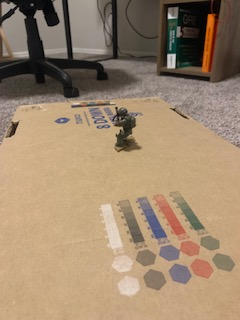soldier: (108, 104, 141, 153)
